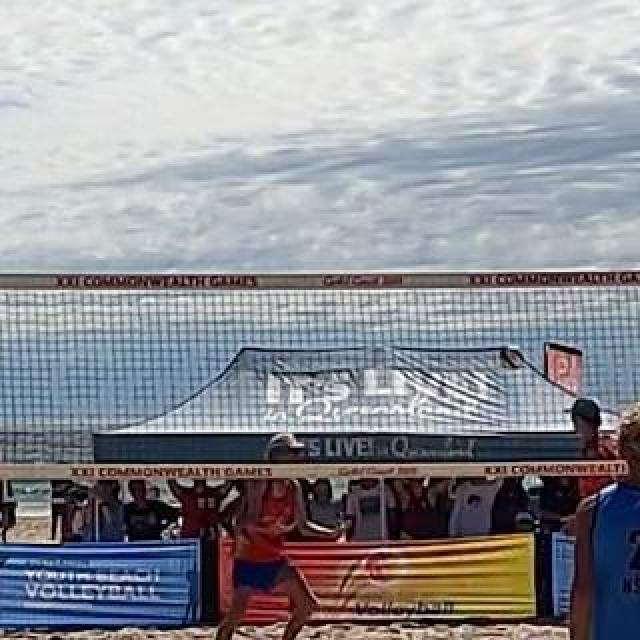volleyball: (498, 344, 528, 370)
